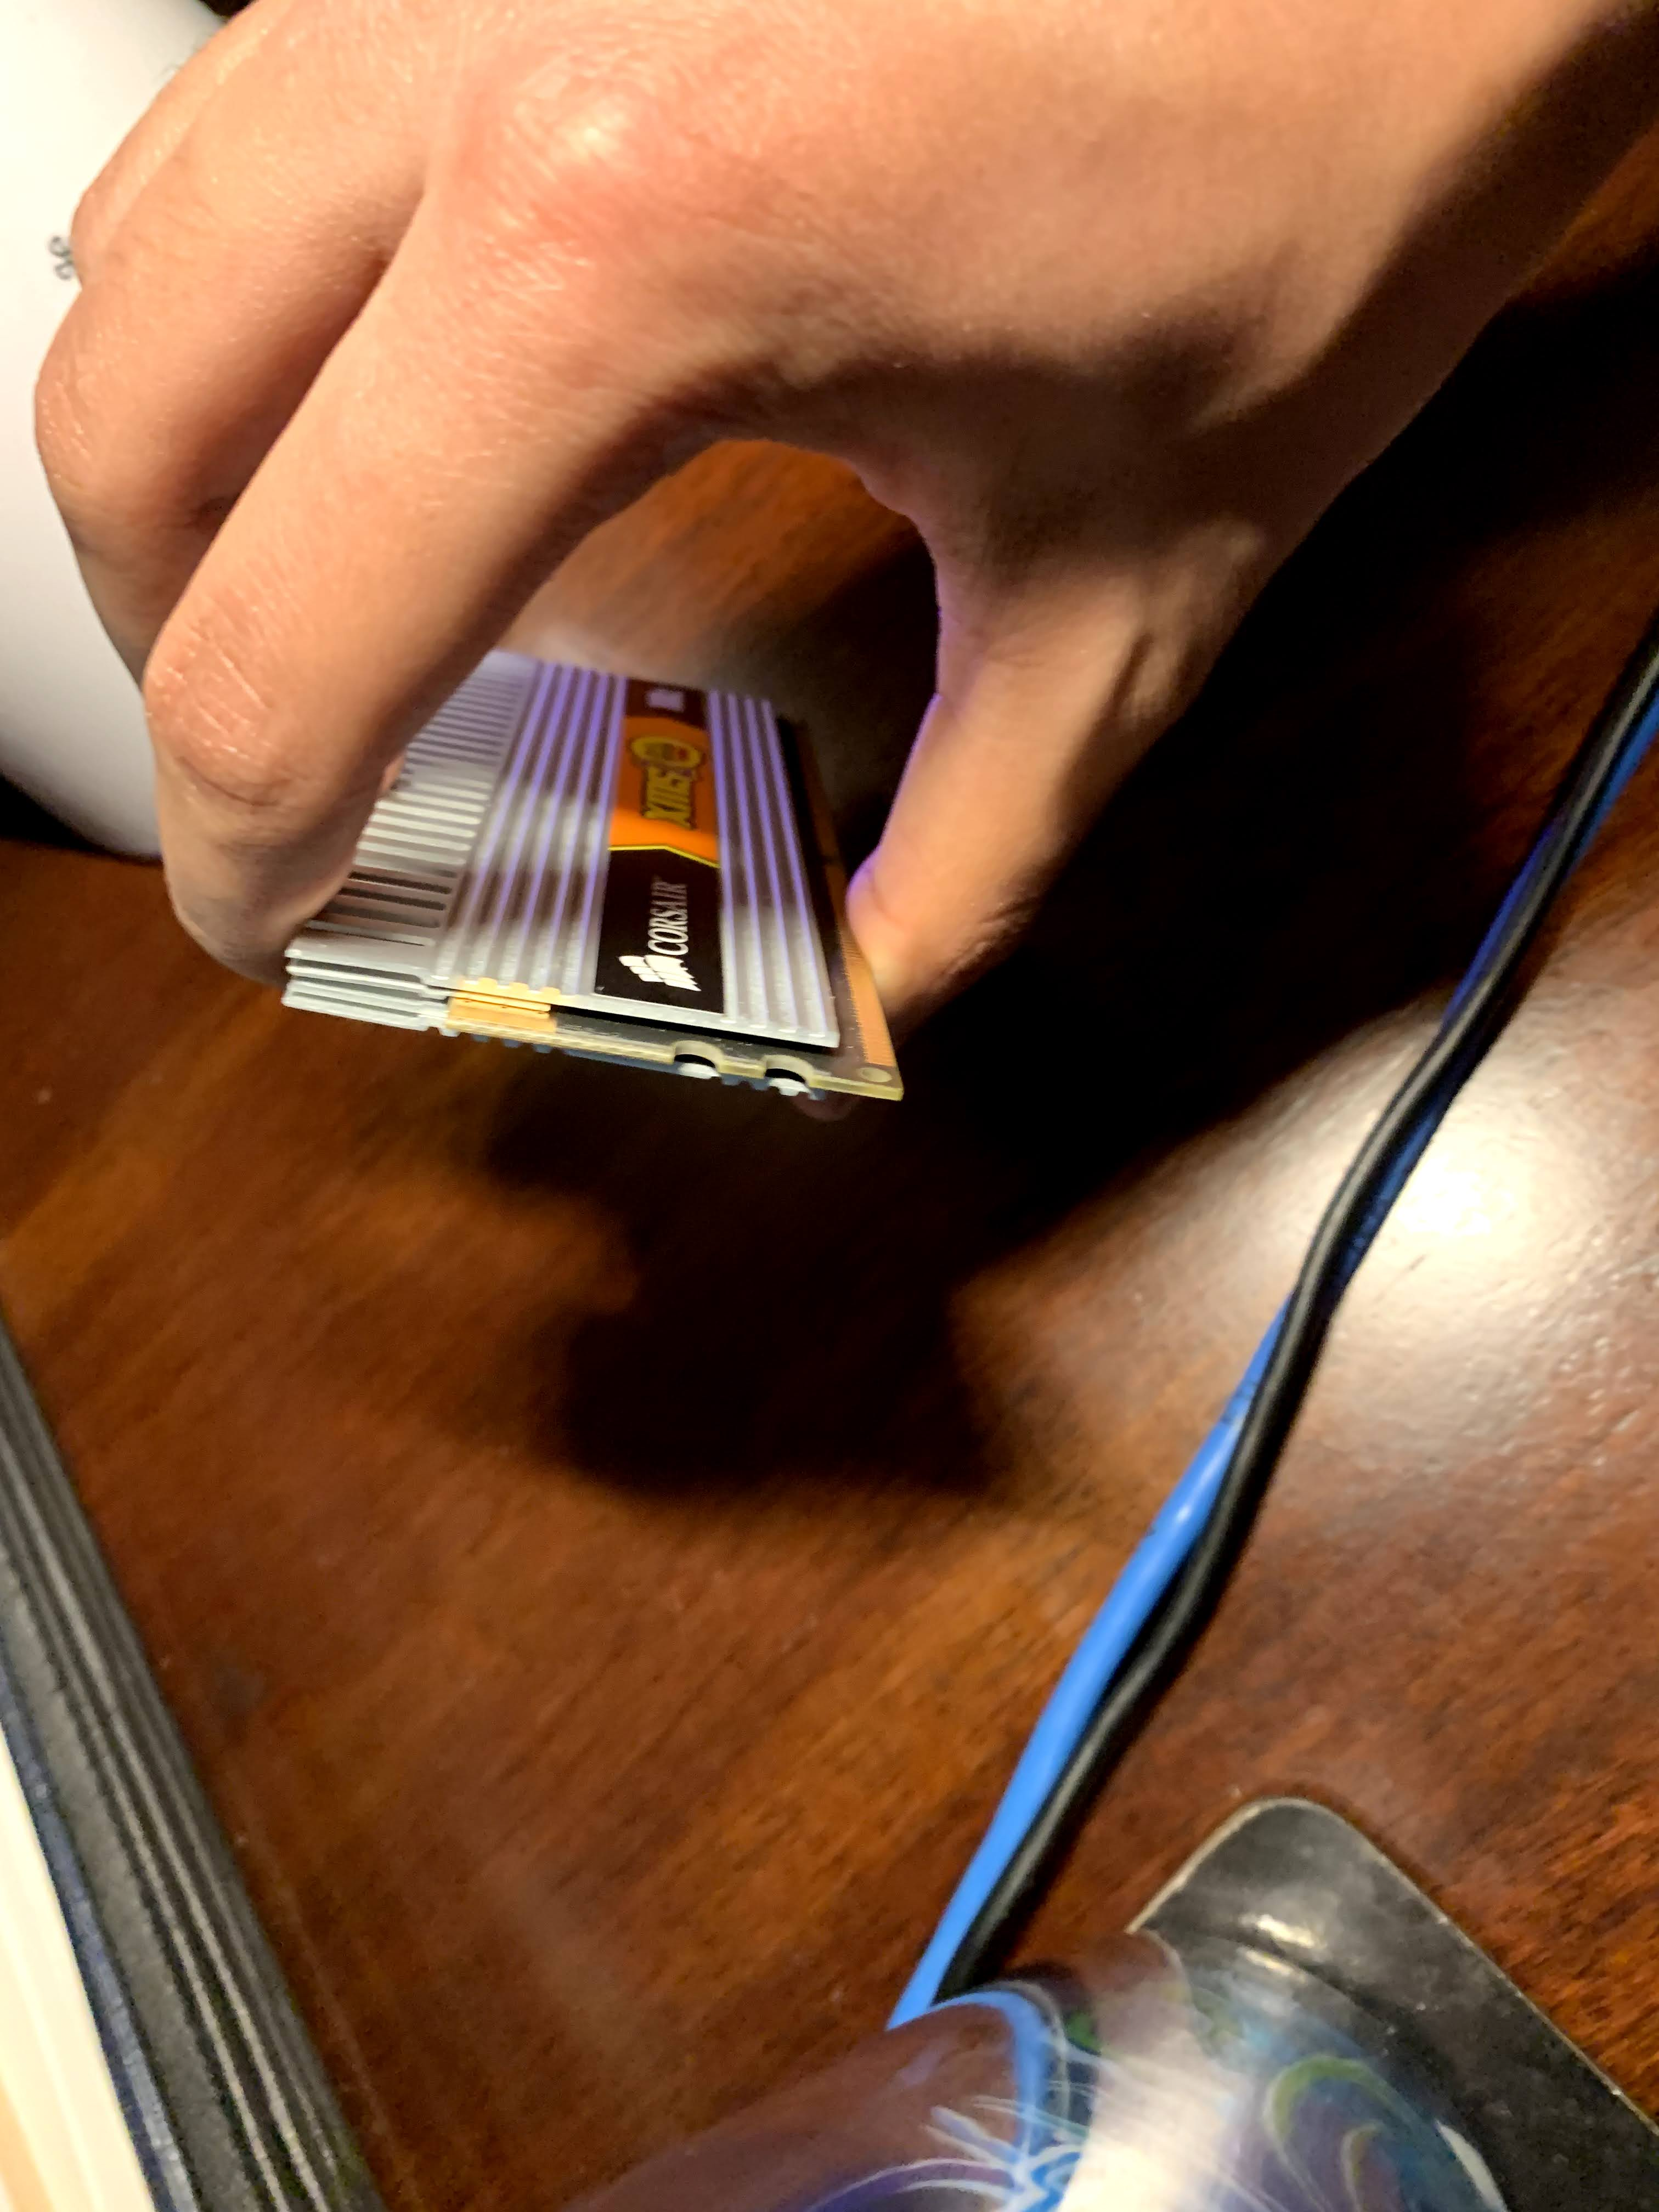Space-debris-medium: (272, 573, 910, 1163)
